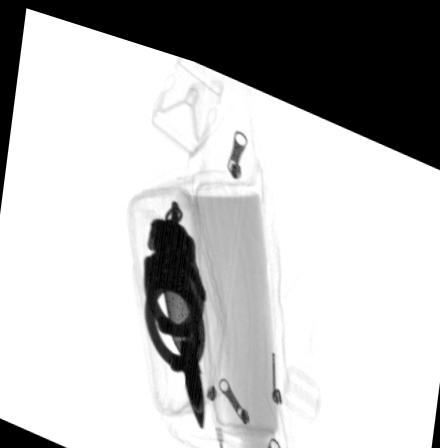Bullet: (158, 249, 204, 415)
HandCuffs: (143, 189, 206, 364)
